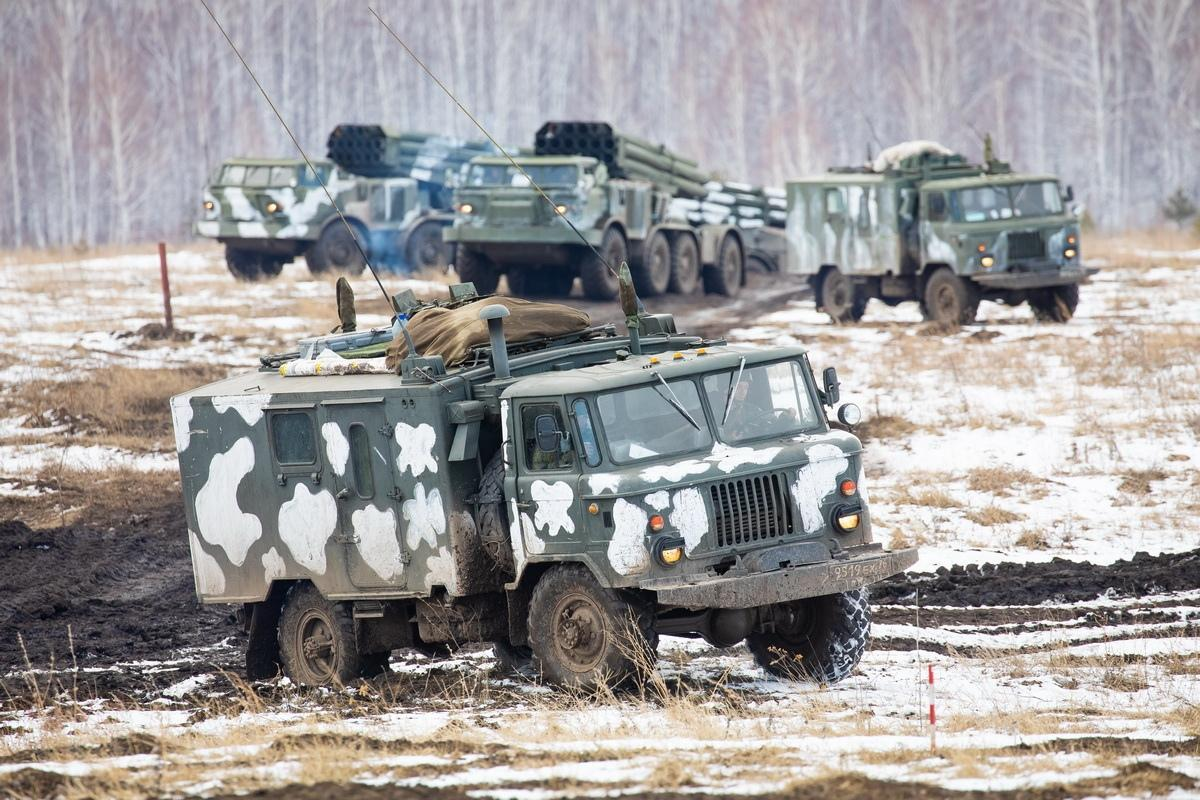rszo: (443, 120, 787, 303), (197, 123, 495, 284)
truck: (168, 276, 918, 697), (785, 132, 1102, 329)
